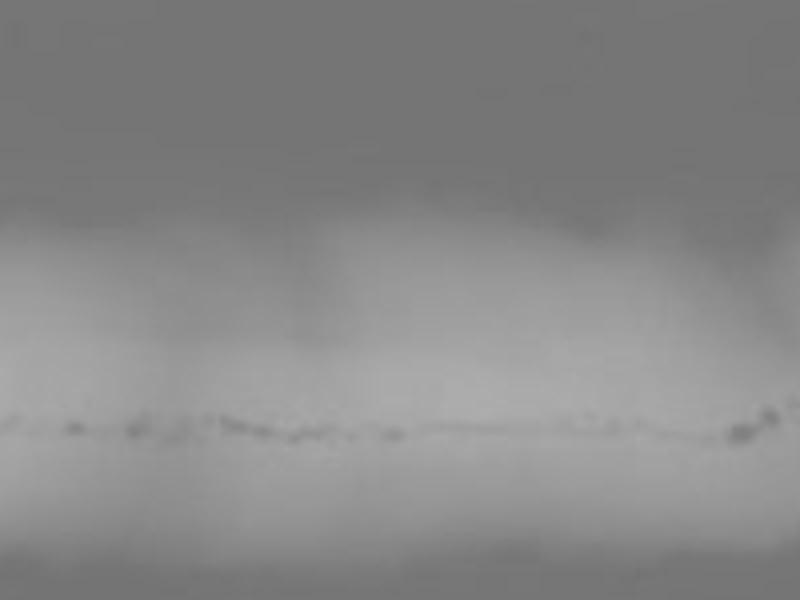defect: (216, 414, 273, 440), (166, 414, 196, 442), (287, 427, 333, 443), (728, 421, 755, 444), (757, 405, 780, 428), (381, 421, 405, 442), (127, 422, 149, 442), (602, 413, 623, 432), (64, 420, 86, 438), (785, 387, 800, 413)
